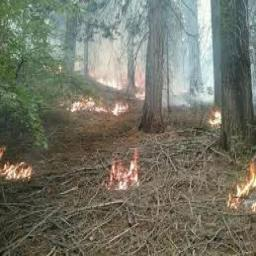Low smoke: (96, 32, 225, 109)
Small fire: (67, 71, 149, 122), (221, 153, 256, 219), (103, 150, 146, 192), (1, 146, 36, 183), (202, 103, 229, 134)
